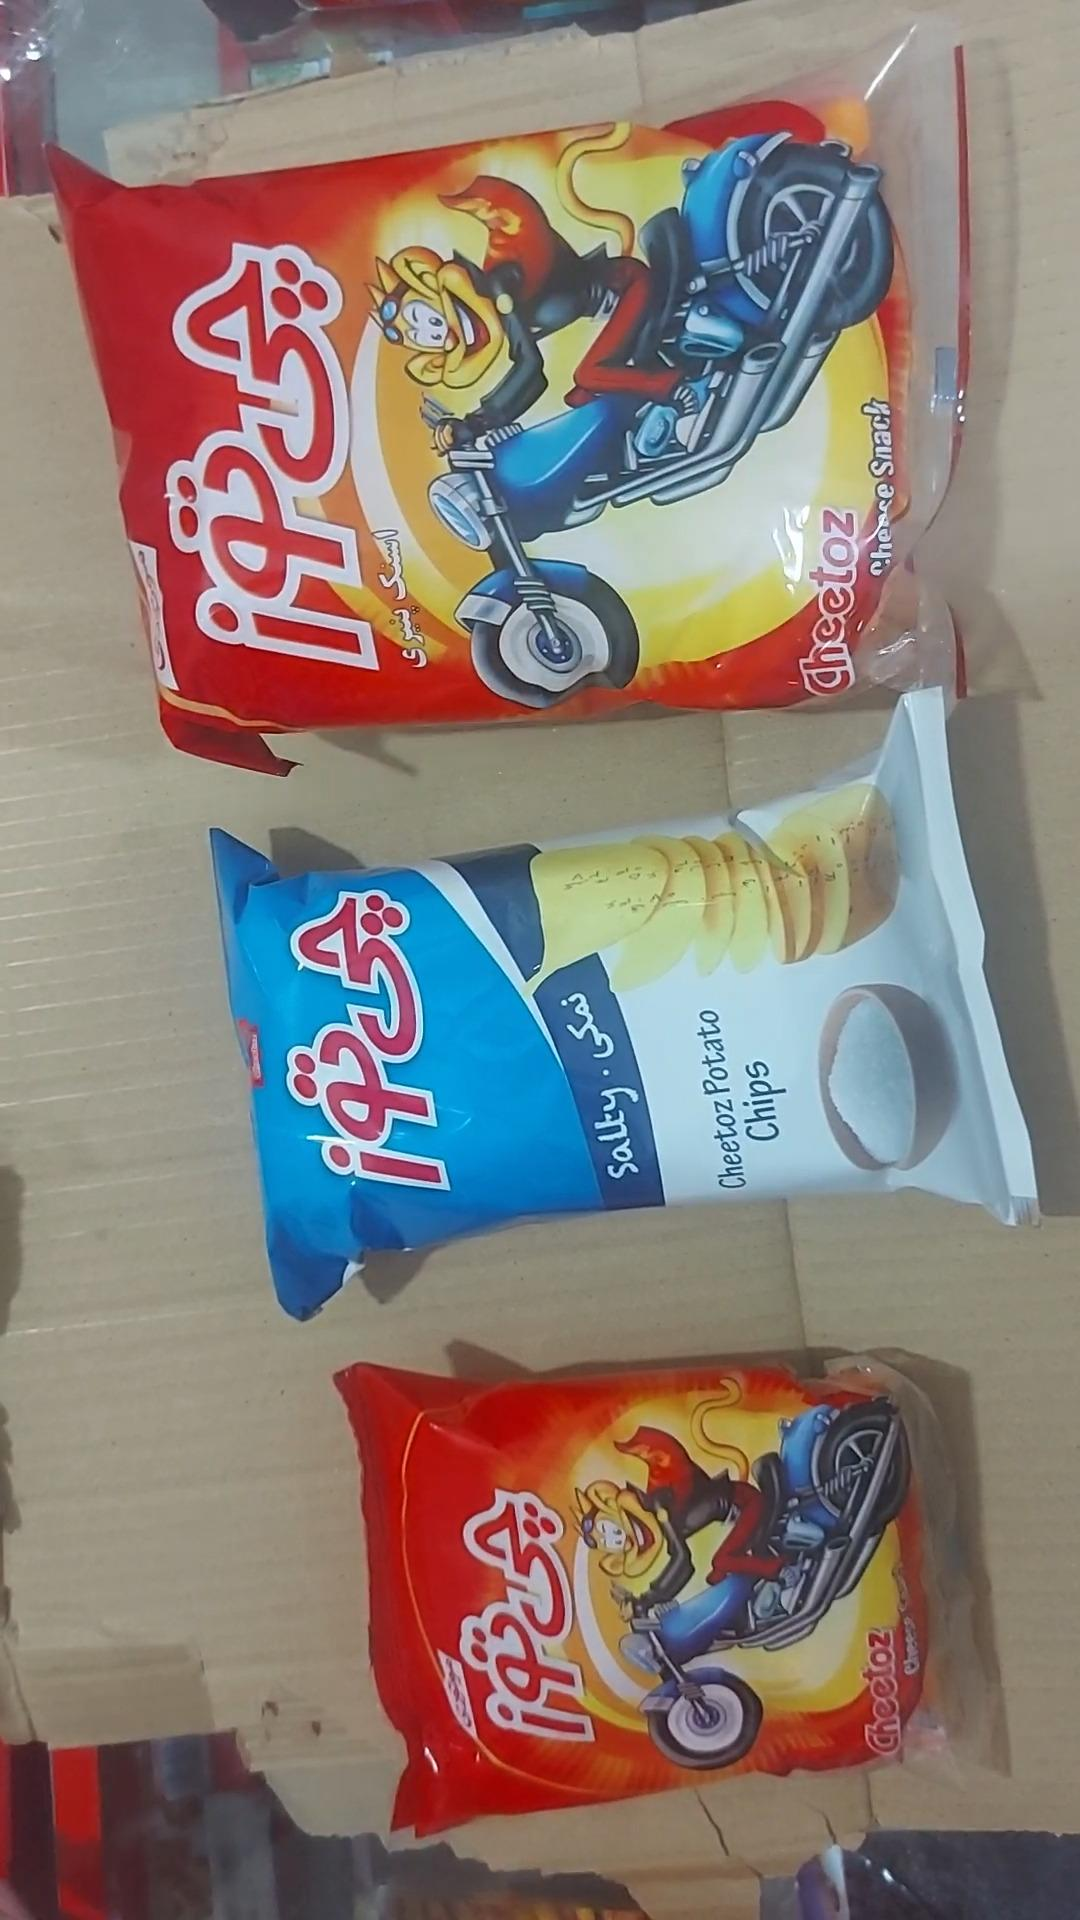Cheetoz salty chips: (208, 688, 1040, 1327)
Cheetoz snack 30g: (328, 1352, 1011, 1844)
Cheetoz snack 90g: (49, 18, 976, 782)
